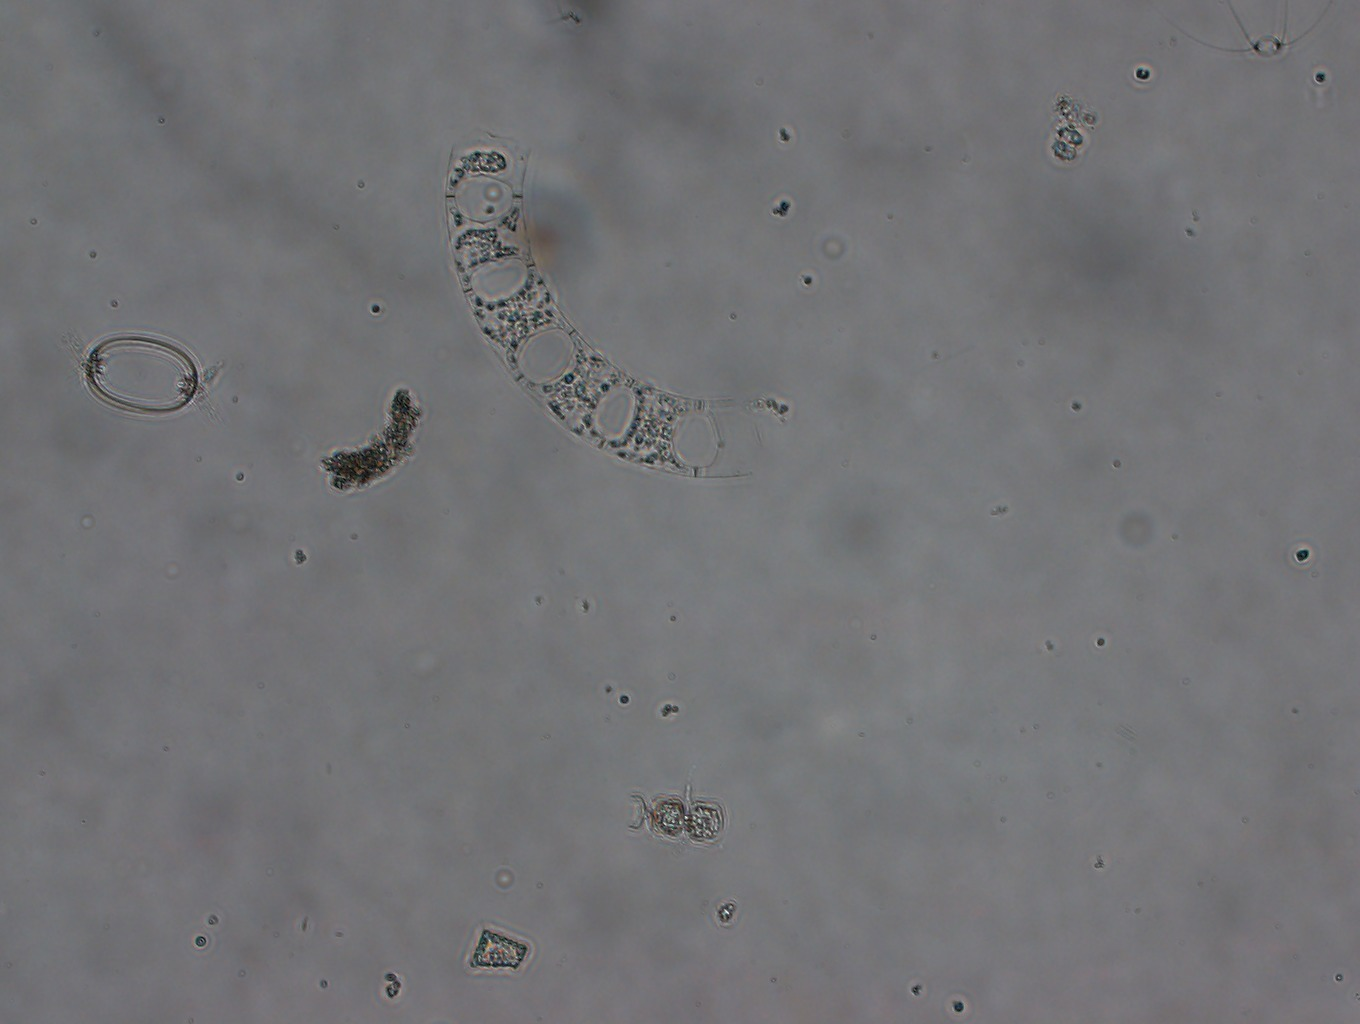chaetoceros: (1148, 1, 1337, 57)
eucampia: (445, 133, 760, 479)
